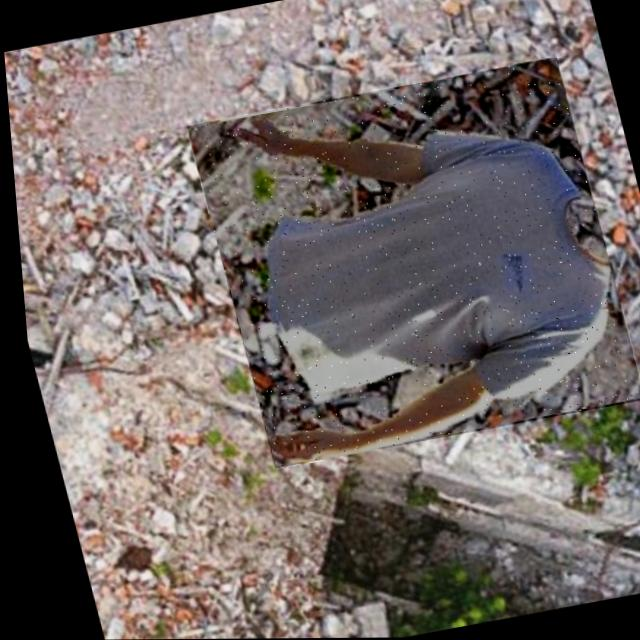Person in Rubble: (179, 57, 640, 469)
